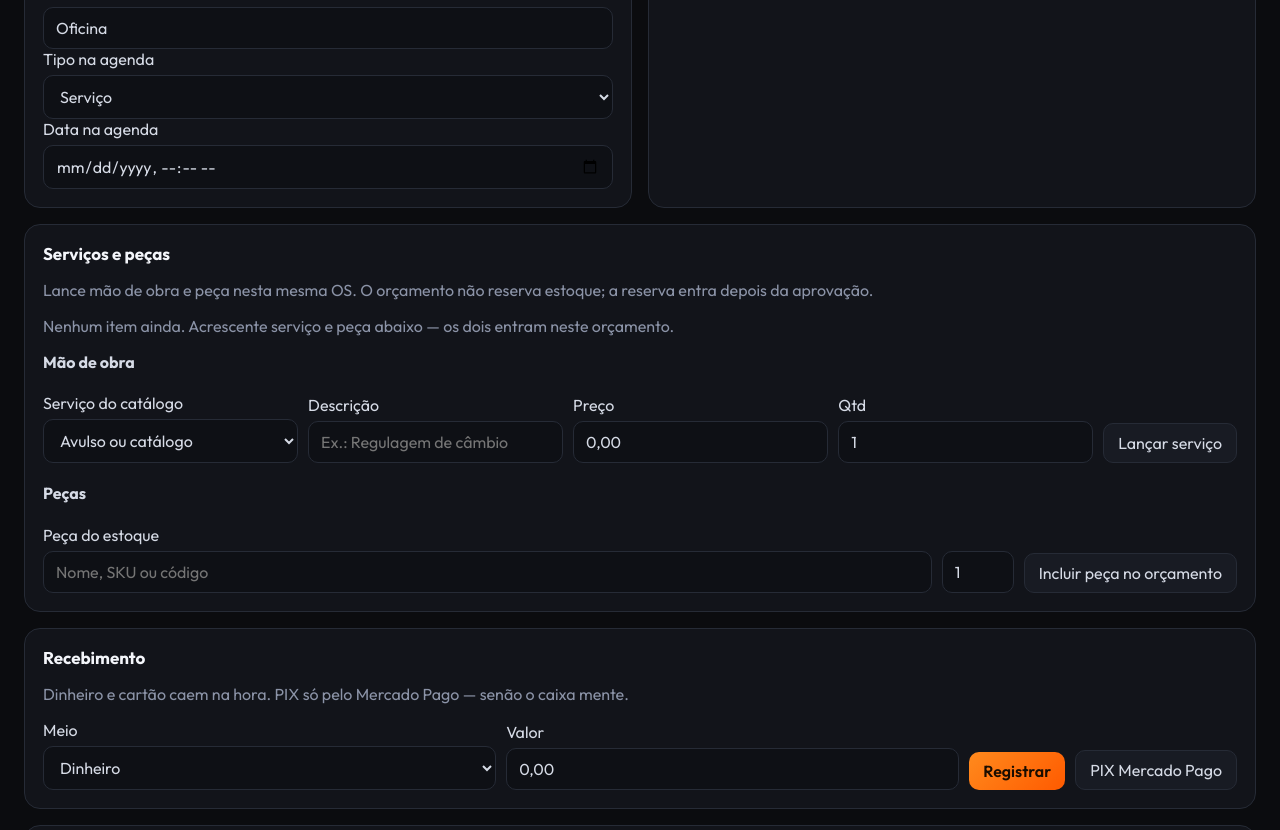
Test case: OS aberta › lança serviço e peça no mesmo orçamento sem reservar estoque
(page scrolled)
Check: the heading "Serviços e peças" is shown, box [43, 243, 170, 264]
Check: the text "Lance mão de obra e peça nesta mesma OS" is shown, box [43, 280, 873, 300]
Step 1. Select "Regulagem de câmbio · R$ 80,00" in the dropdown labelled "Serviço do catálogo" → (170,441), box [43, 419, 298, 463]
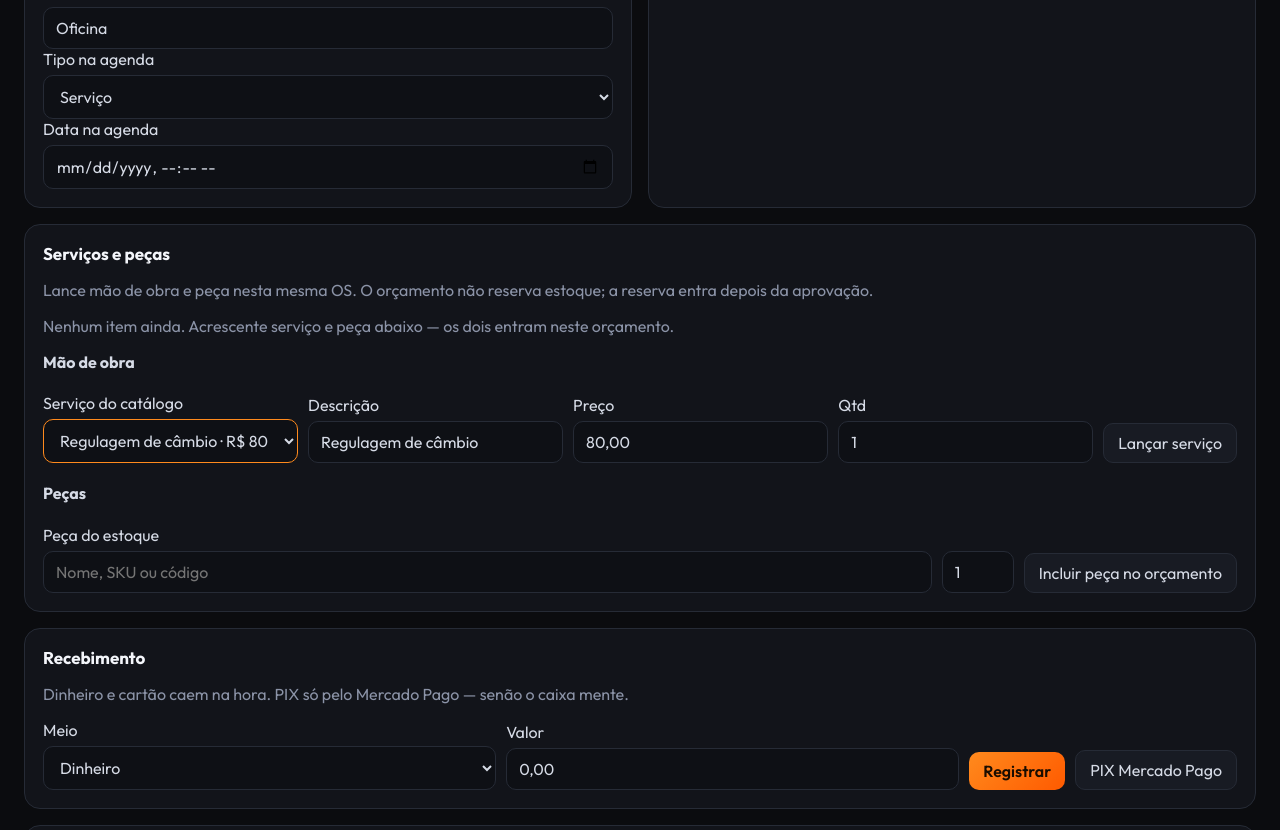
Step 2. Click the button "Lançar serviço" → (1170,443), box [1103, 423, 1237, 463]
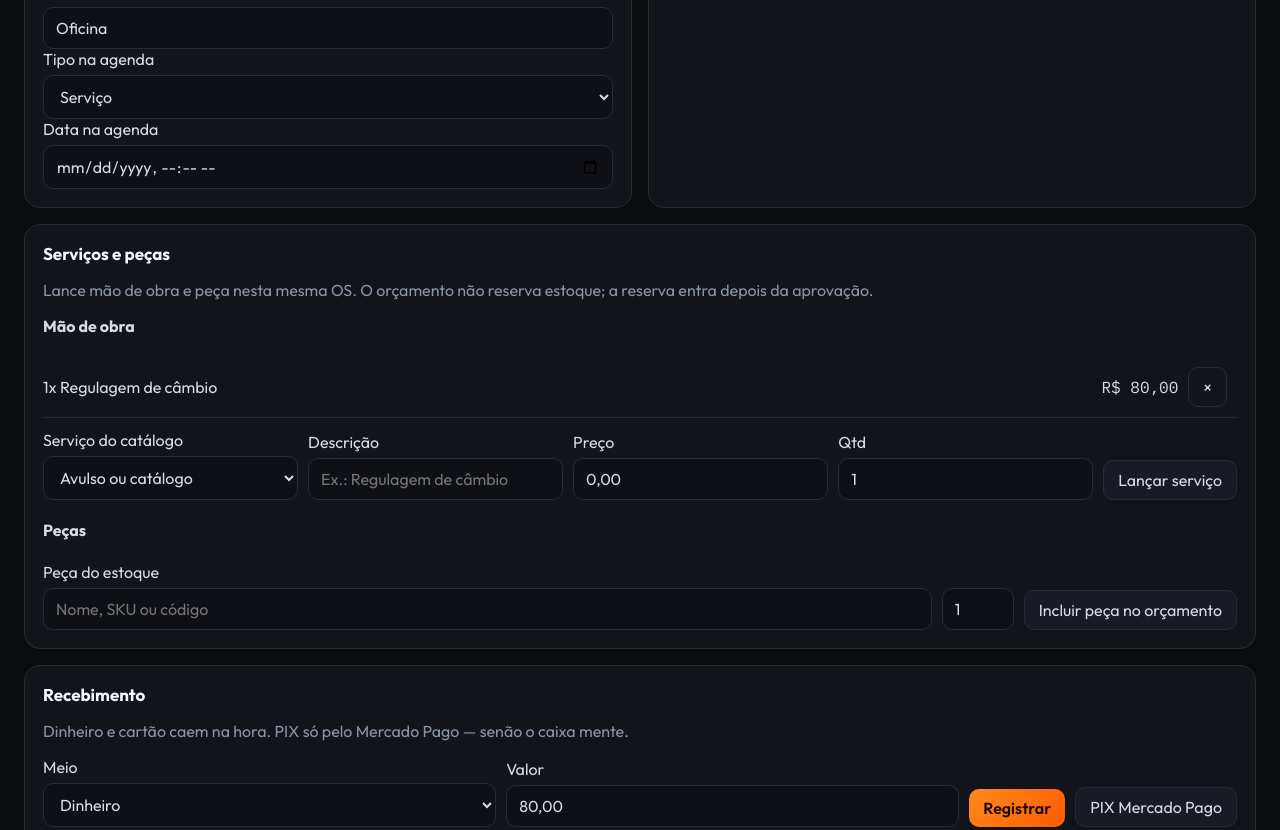
Check: the text "1x Regulagem de câmbio" is shown, box [43, 377, 217, 397]
Step 3. Type "Corrente" into the dropdown labelled "Peça do estoque" → (487,608), box [43, 588, 932, 630]
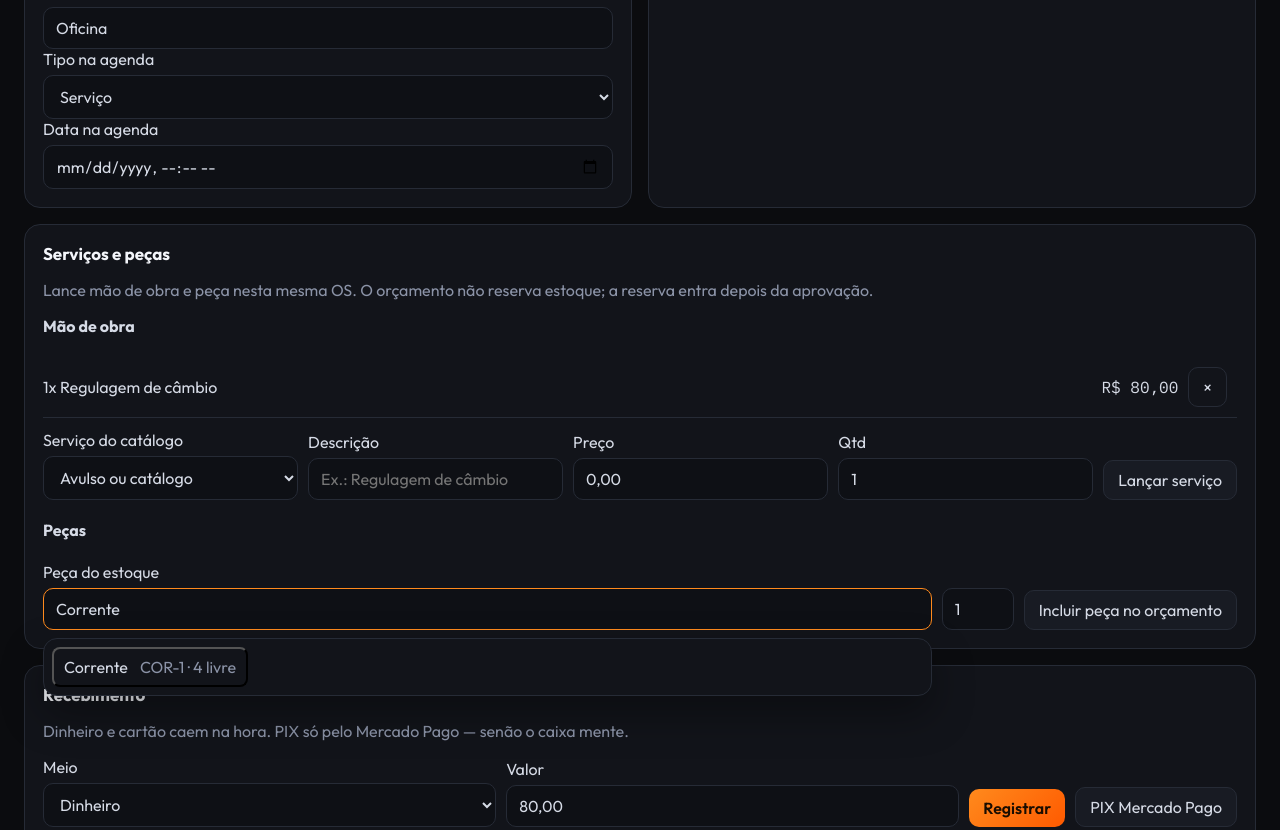
Step 4. Click the option "Corrente COR-1 · 4 livre" → (150,666), box [52, 646, 248, 686]
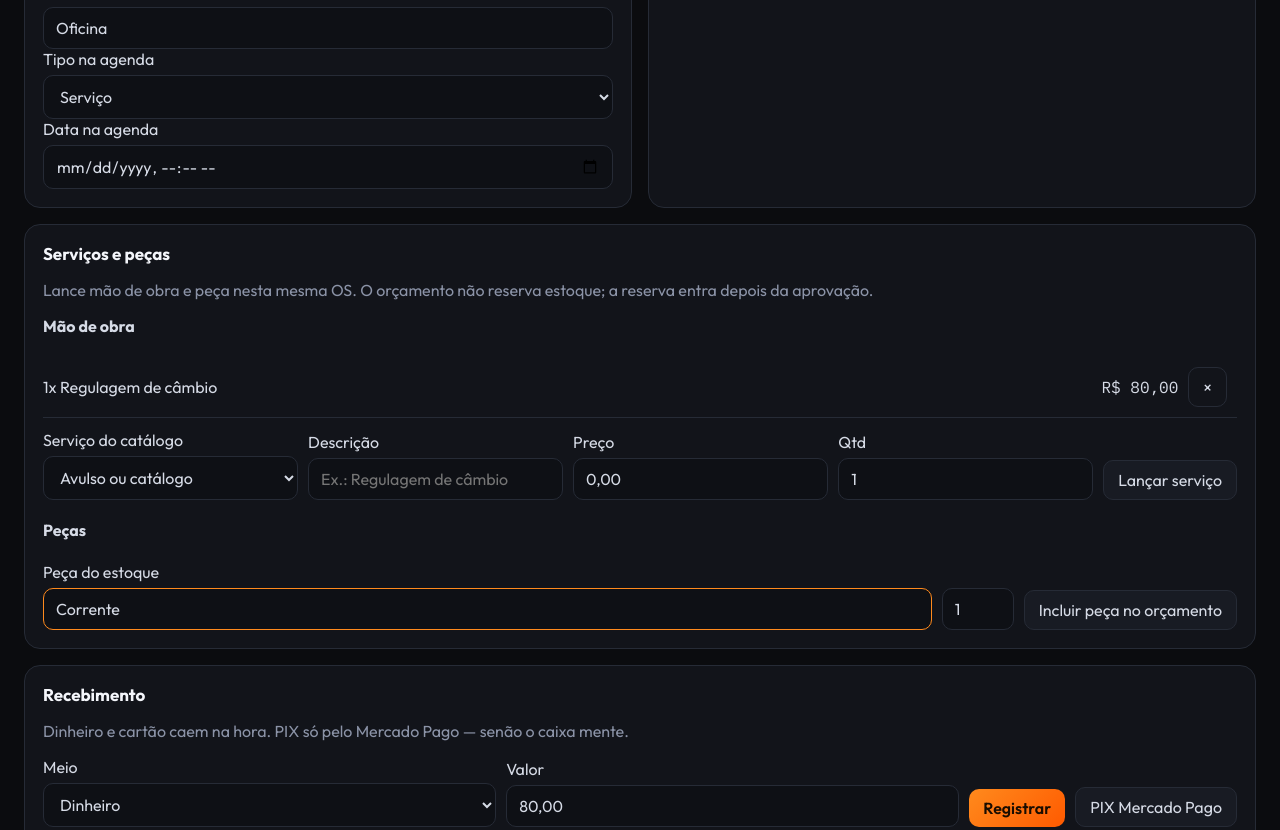
Step 5. Click the button "Incluir peça no orçamento" → (1130,610), box [1024, 590, 1237, 630]
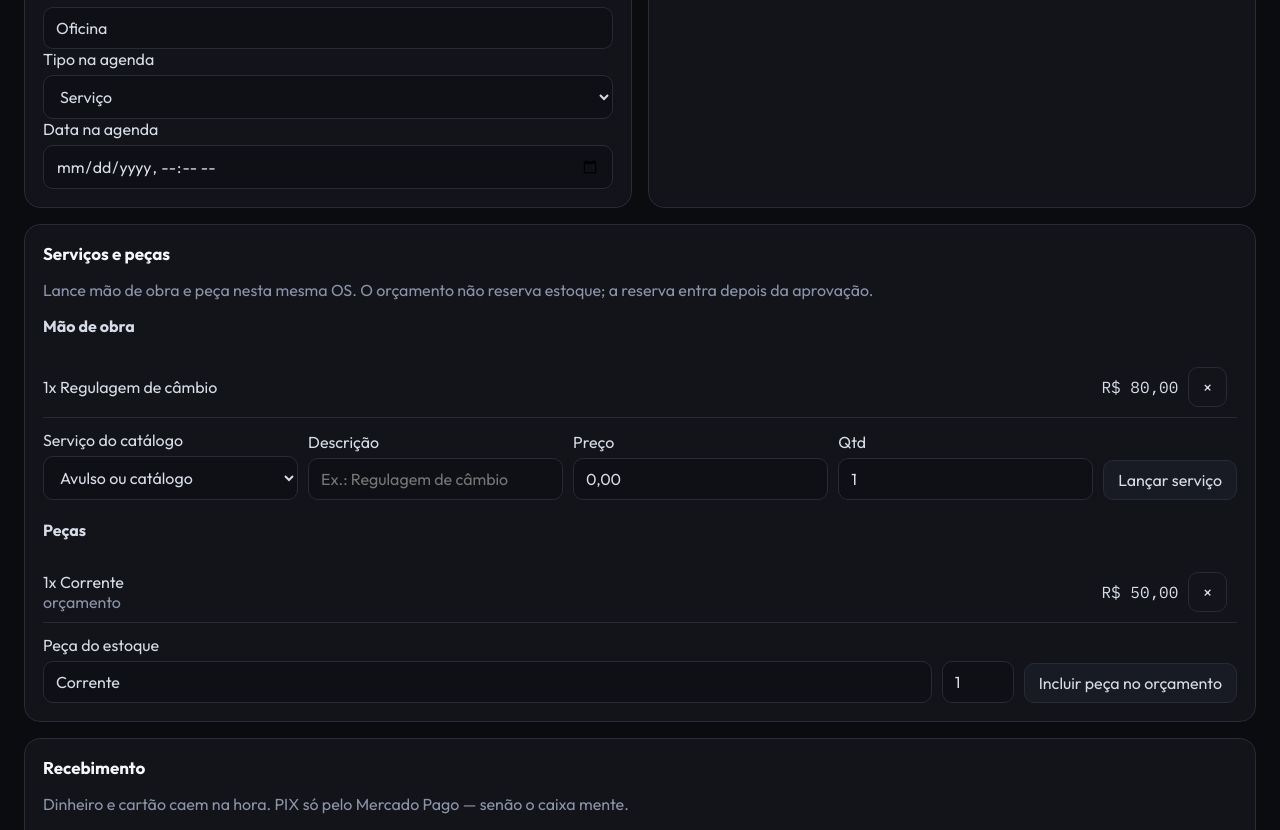
Check: the text "1x Regulagem de câmbio" is shown, box [43, 377, 217, 397]
Check: the text "1x Corrente" is shown, box [43, 572, 124, 612]
Check: the text "orçamento" is shown, box [43, 592, 121, 612]
